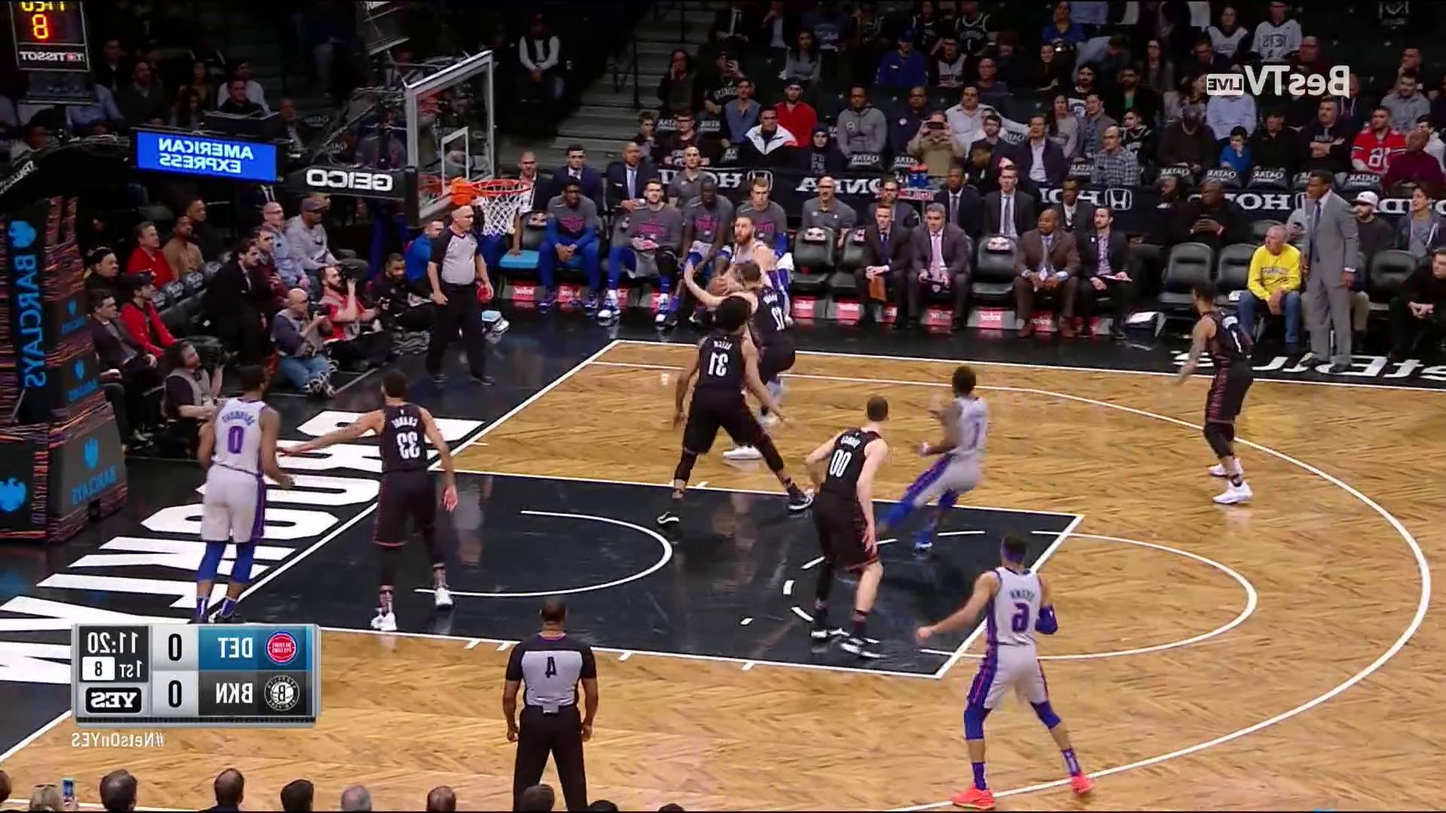basketball: (708, 274, 731, 298)
